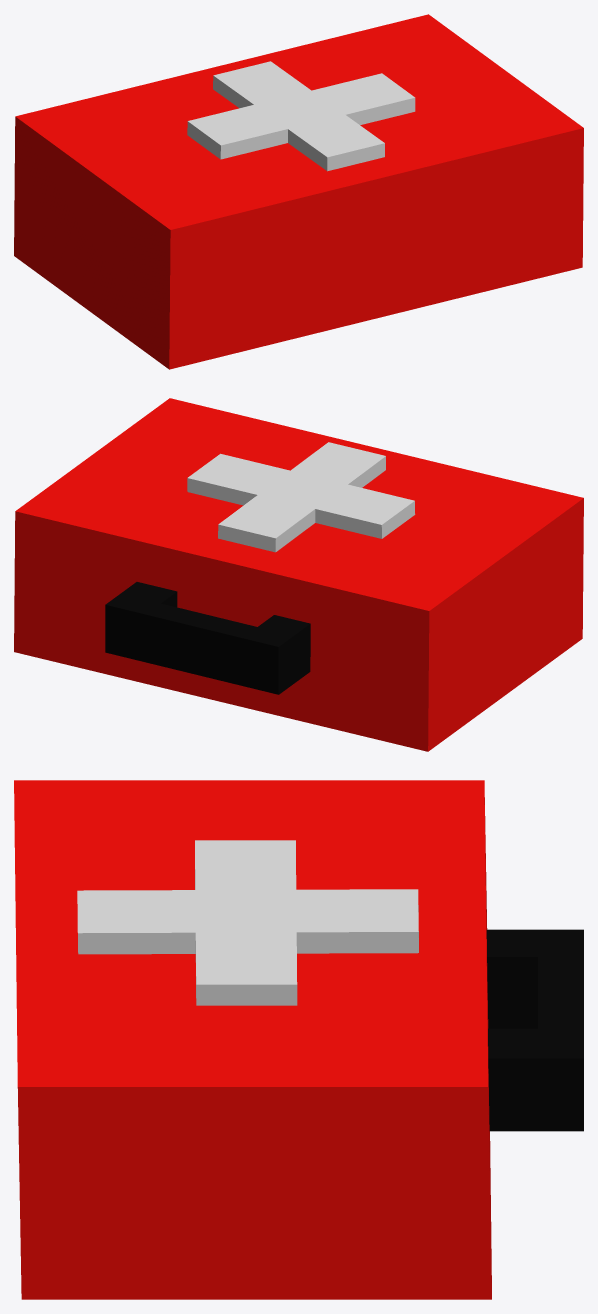
The model's file is ilkyardimcantasikirmizi.fbx.
3 views of the same model, one above another, from view 1: azimuth 30°, elevation 25°; view 2: azimuth 150°, elevation 25°; view 3: azimuth 270°, elevation 25° (orthographic). The views are drawn at different scales.
Visible parts, largest first — view 1: kutu, yardimisareti; view 2: kutu, yardimisareti, Cube; view 3: kutu, yardimisareti, Cube.
Part boxes in pixels (x1=…): kutu: x1=14, y1=14, x2=583, y2=369; yardimisareti: x1=187, y1=61, x2=415, y2=171; kutu: x1=14, y1=398, x2=583, y2=751; yardimisareti: x1=187, y1=442, x2=415, y2=552; Cube: x1=105, y1=582, x2=310, y2=694; kutu: x1=14, y1=780, x2=491, y2=1299; yardimisareti: x1=77, y1=840, x2=418, y2=1005; Cube: x1=486, y1=929, x2=583, y2=1131.
Bounding box in the file's own units: 438 × 156 × 344.
